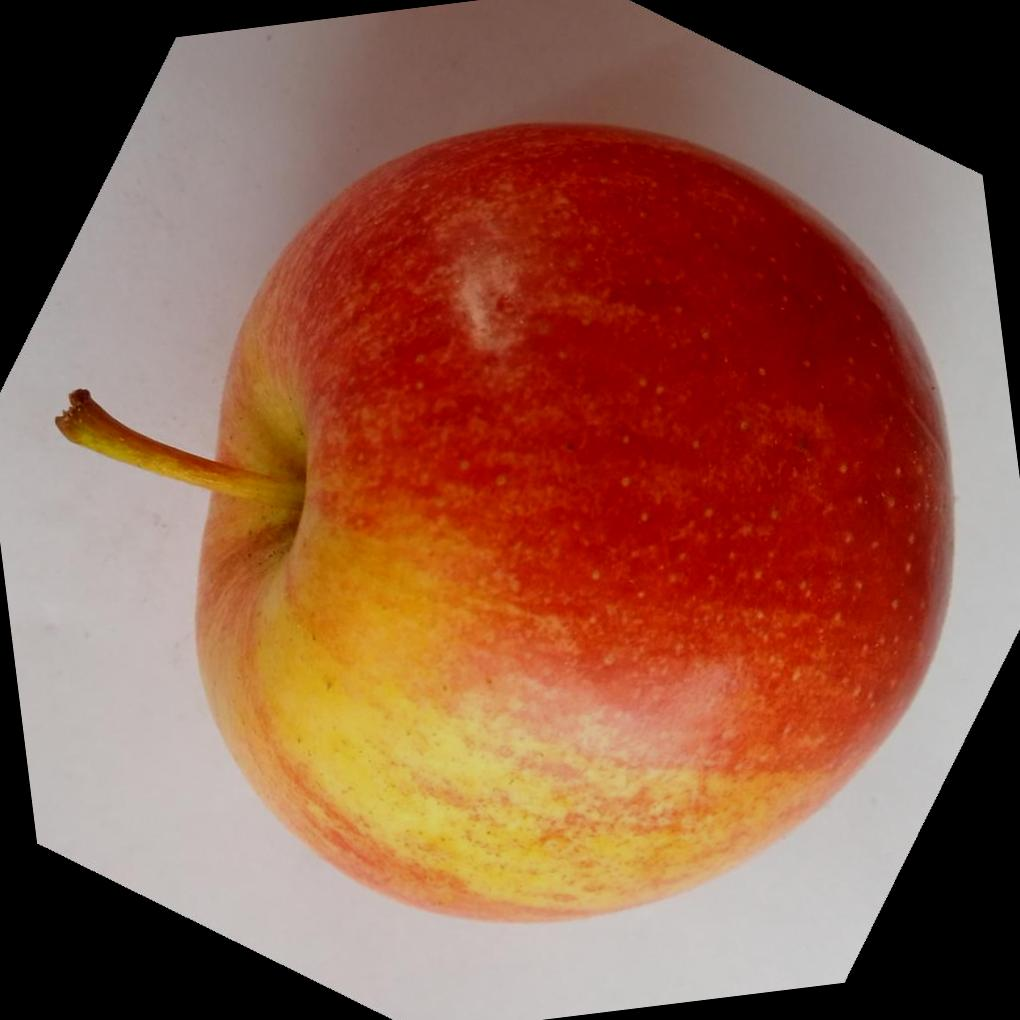FreshGuava: (54, 124, 957, 927)
